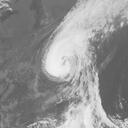cyclone: (42, 36, 90, 83)
